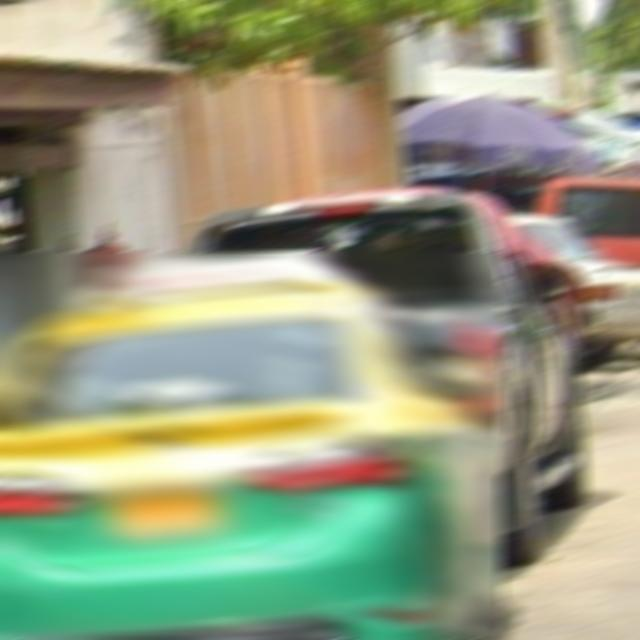Taxi: (0, 252, 502, 638)
